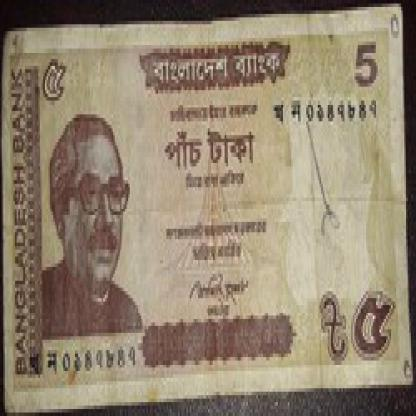Five Taka: (160, 128, 256, 166), (350, 291, 394, 361), (38, 52, 70, 104), (353, 35, 379, 94)
